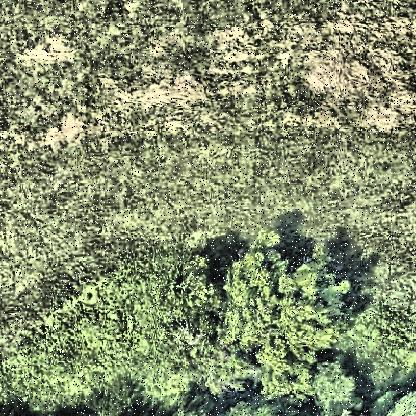tree-top: (218, 234, 349, 404), (161, 247, 231, 343), (74, 379, 162, 416), (310, 356, 361, 416)
